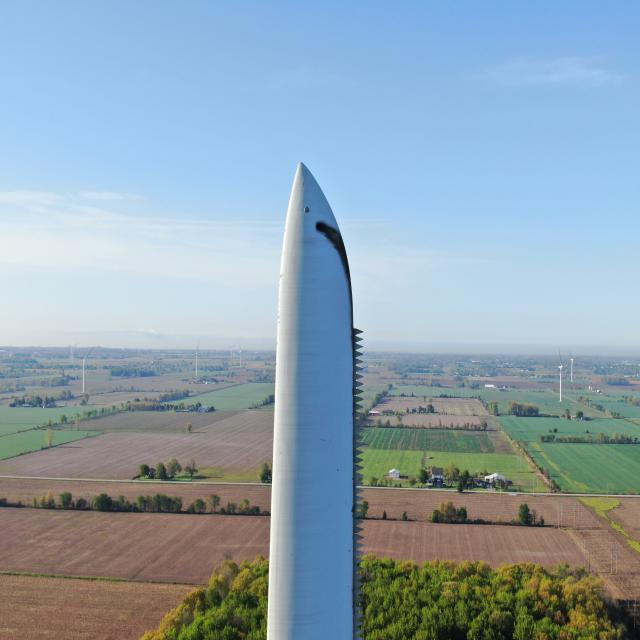damage: (314, 216, 348, 254)
